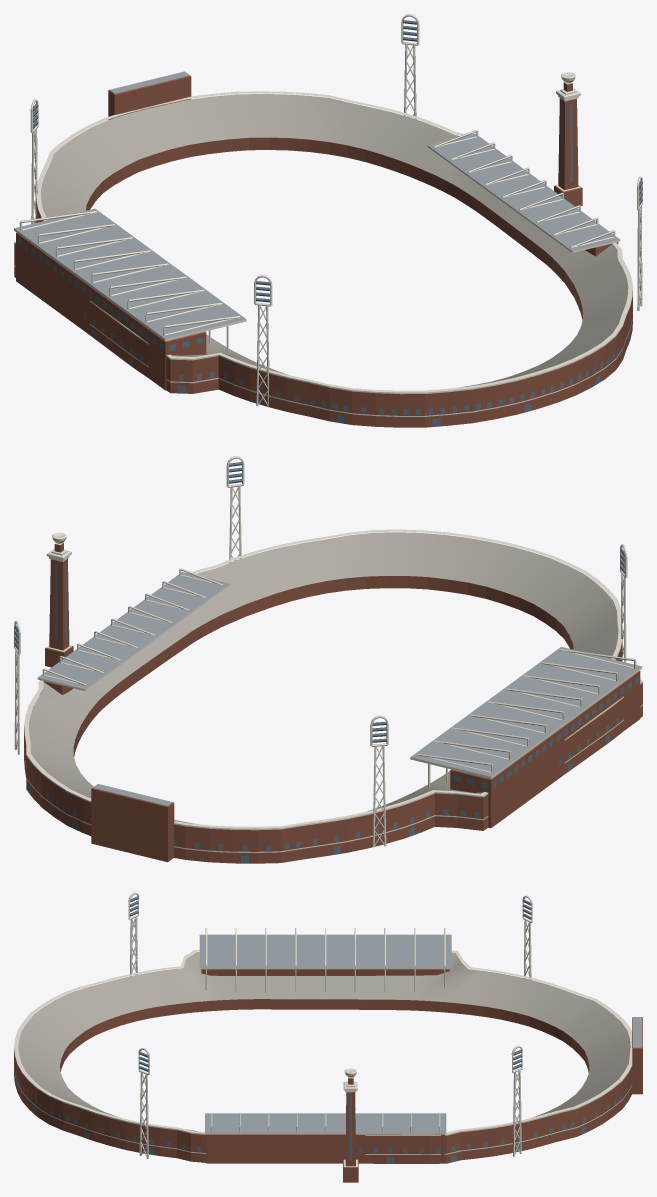
File: amsterdam-olympic-stadium.glb
The picture shows the model from 3 angles, top to bottom: view 1: azimuth 30°, elevation 25°; view 2: azimuth 150°, elevation 25°; view 3: azimuth 270°, elevation 25°; orthographic projection. The views are drawn at different scales.
Visible parts, largest first — view 1: Olympisch Stadion; view 2: Olympisch Stadion; view 3: Olympisch Stadion.
Boxes of the visible parts, box(x1,y1,x2,y2) form: Olympisch Stadion: box(14, 14, 642, 427); Olympisch Stadion: box(14, 456, 642, 863); Olympisch Stadion: box(14, 892, 642, 1182).
Size of the model in its own units: 187 by 46.46 by 243.
